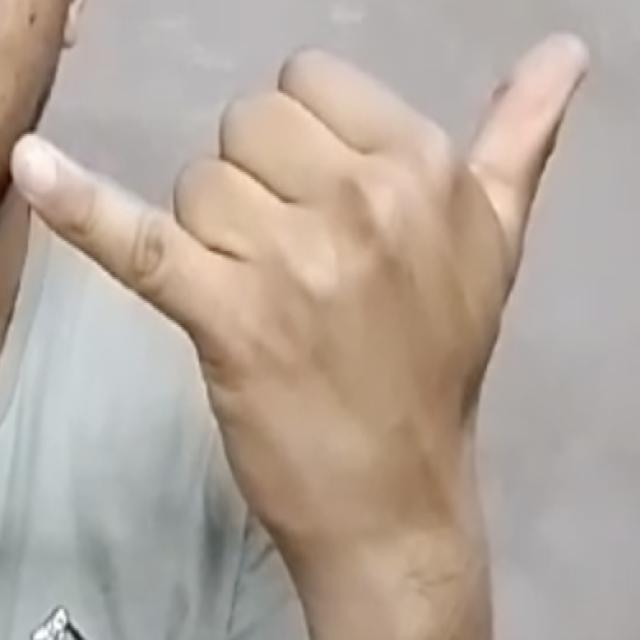Y: (8, 23, 603, 598)
